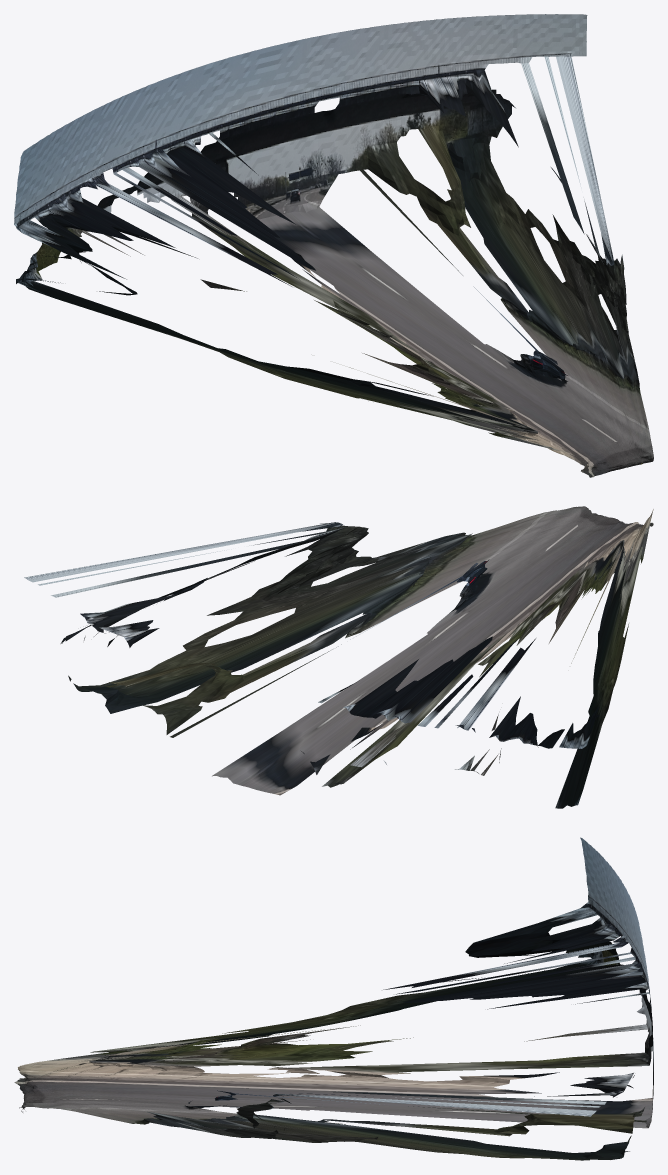
3 renders of one model, top to bottom at view 1: azimuth 30°, elevation 25°; view 2: azimuth 150°, elevation 25°; view 3: azimuth 270°, elevation 25°, orthographic. The views are drawn at different scales.
Visible parts, largest first — view 1: defaultobject; view 2: defaultobject; view 3: defaultobject.
Part boxes in pixels (<box>): defaultobject: <box>14,14,653,477</box>; defaultobject: <box>24,506,653,808</box>; defaultobject: <box>14,837,653,1160</box>.
Bounding box in the file's own units: 40.98 × 12.34 × 44.79.
Materials: 1 (1 with a texture image).
